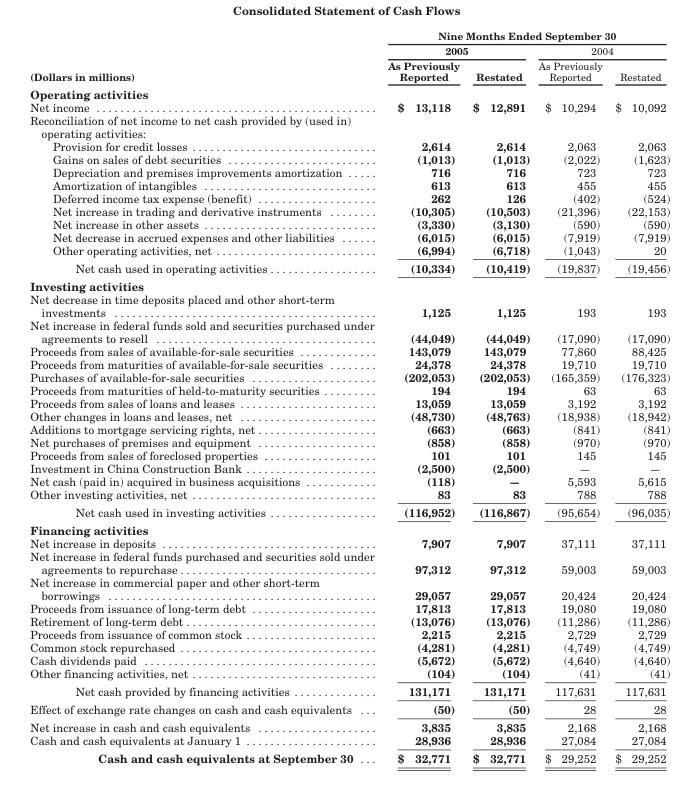table: (29, 29, 669, 764)
table column: (29, 29, 380, 764), (380, 29, 465, 764), (533, 29, 608, 764), (465, 29, 533, 764), (608, 29, 669, 764)
table column header: (29, 29, 669, 84)
table projected row header: (29, 112, 669, 138), (29, 276, 669, 292), (29, 520, 669, 536), (29, 84, 669, 99)
table row: (29, 58, 669, 84), (29, 112, 669, 138), (29, 292, 669, 318), (29, 318, 669, 344), (29, 549, 669, 575), (29, 575, 669, 601), (29, 258, 669, 276), (29, 502, 669, 520), (29, 681, 669, 699), (29, 699, 669, 717), (29, 42, 669, 58), (29, 242, 669, 258), (29, 276, 669, 292), (29, 520, 669, 536), (29, 717, 669, 733), (29, 733, 669, 749), (29, 84, 669, 99), (29, 487, 669, 502), (29, 666, 669, 681), (29, 749, 669, 764), (29, 29, 669, 42), (29, 99, 669, 112), (29, 138, 669, 151), (29, 151, 669, 164), (29, 164, 669, 177), (29, 177, 669, 190), (29, 190, 669, 203), (29, 203, 669, 216), (29, 216, 669, 229), (29, 229, 669, 242), (29, 344, 669, 357), (29, 357, 669, 370), (29, 370, 669, 383), (29, 383, 669, 396), (29, 396, 669, 409), (29, 409, 669, 422), (29, 422, 669, 435), (29, 435, 669, 448), (29, 448, 669, 461), (29, 461, 669, 474), (29, 474, 669, 487), (29, 536, 669, 549), (29, 601, 669, 614), (29, 614, 669, 627), (29, 627, 669, 640), (29, 640, 669, 653), (29, 653, 669, 666)
table spanning cell: (29, 29, 380, 84), (380, 29, 669, 42), (380, 42, 533, 58), (533, 42, 669, 58)
